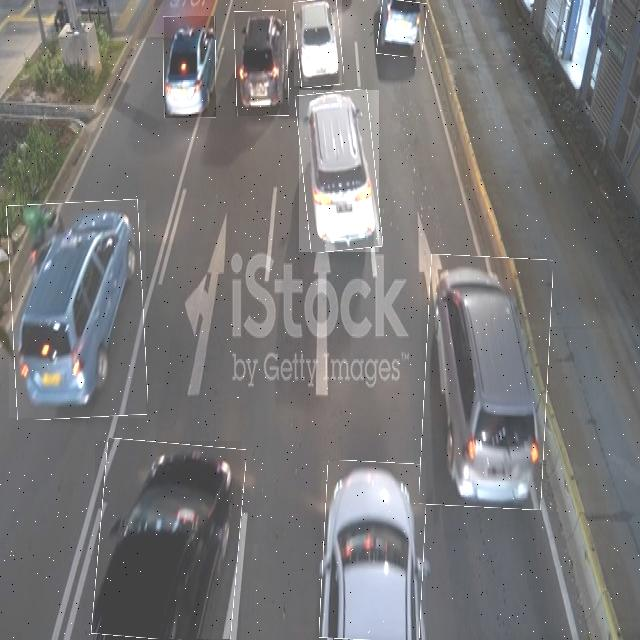Car: (422, 256, 550, 508), (9, 200, 146, 418), (95, 441, 241, 640), (321, 461, 426, 640), (299, 90, 379, 252), (235, 11, 289, 116), (164, 16, 216, 118), (294, 0, 342, 86), (377, 0, 425, 56)
